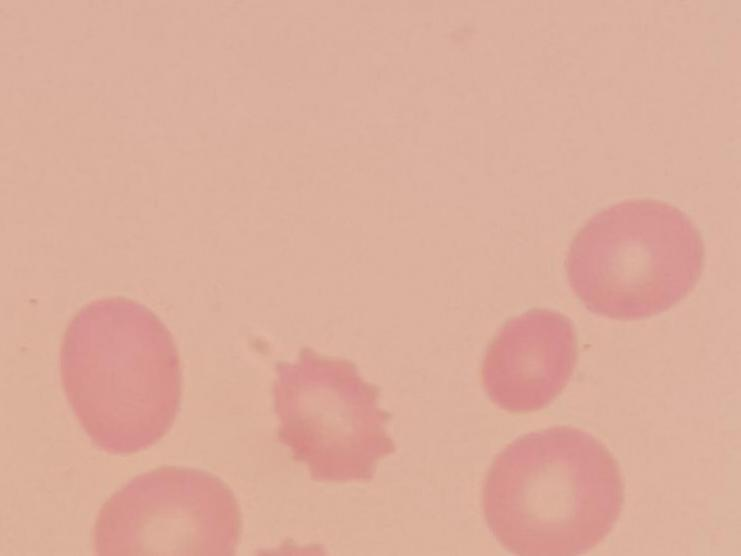Uninfected: (477, 425, 630, 556), (56, 299, 182, 458), (273, 348, 397, 490), (567, 200, 705, 318), (97, 465, 240, 556), (483, 306, 577, 414)
